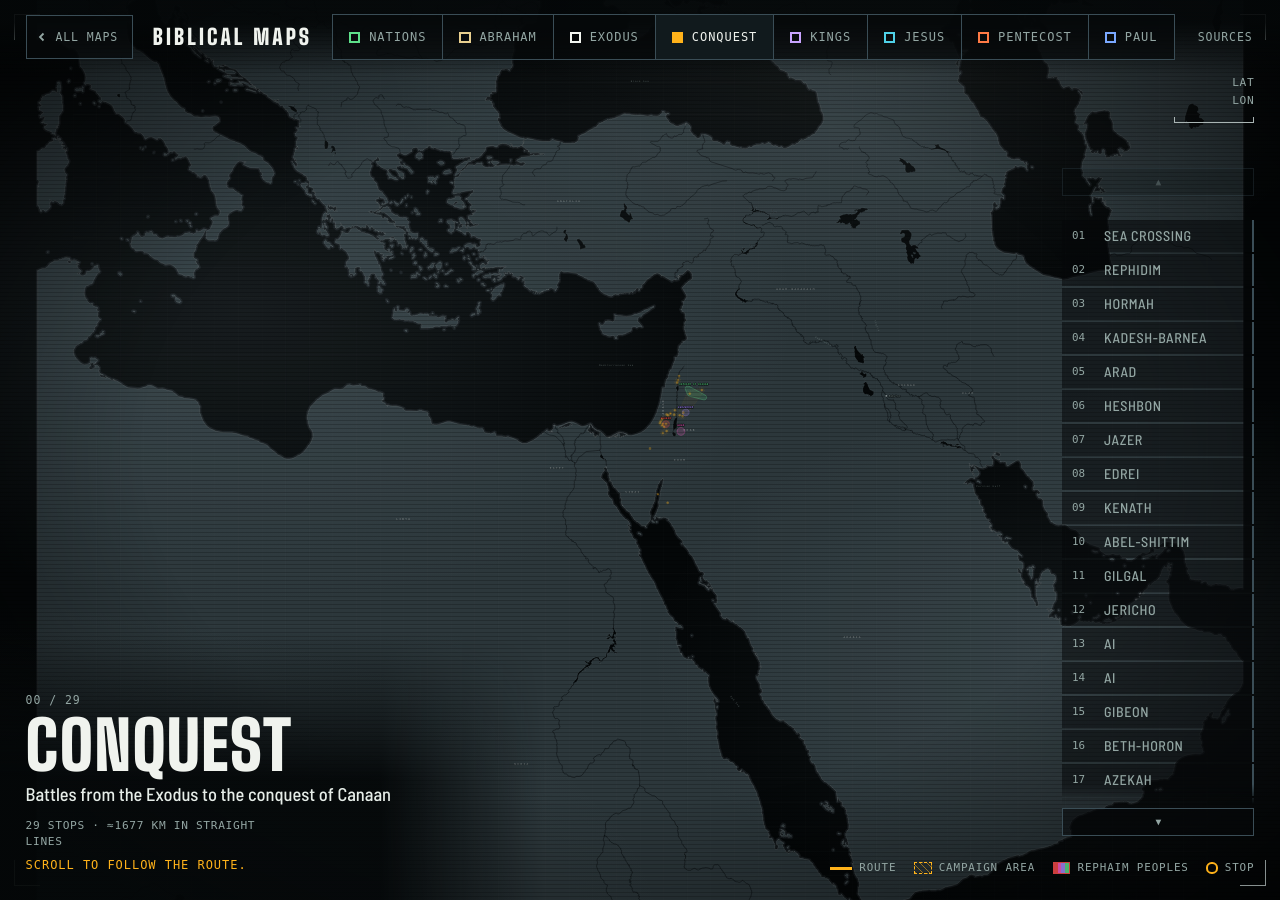
Scenario: App › puts the Table of Nations first, then Abraham
Expected: the button "Abraham" is shown, [443,15,554,59]
Click the button "Nations": (388, 37) [333,15,443,59]
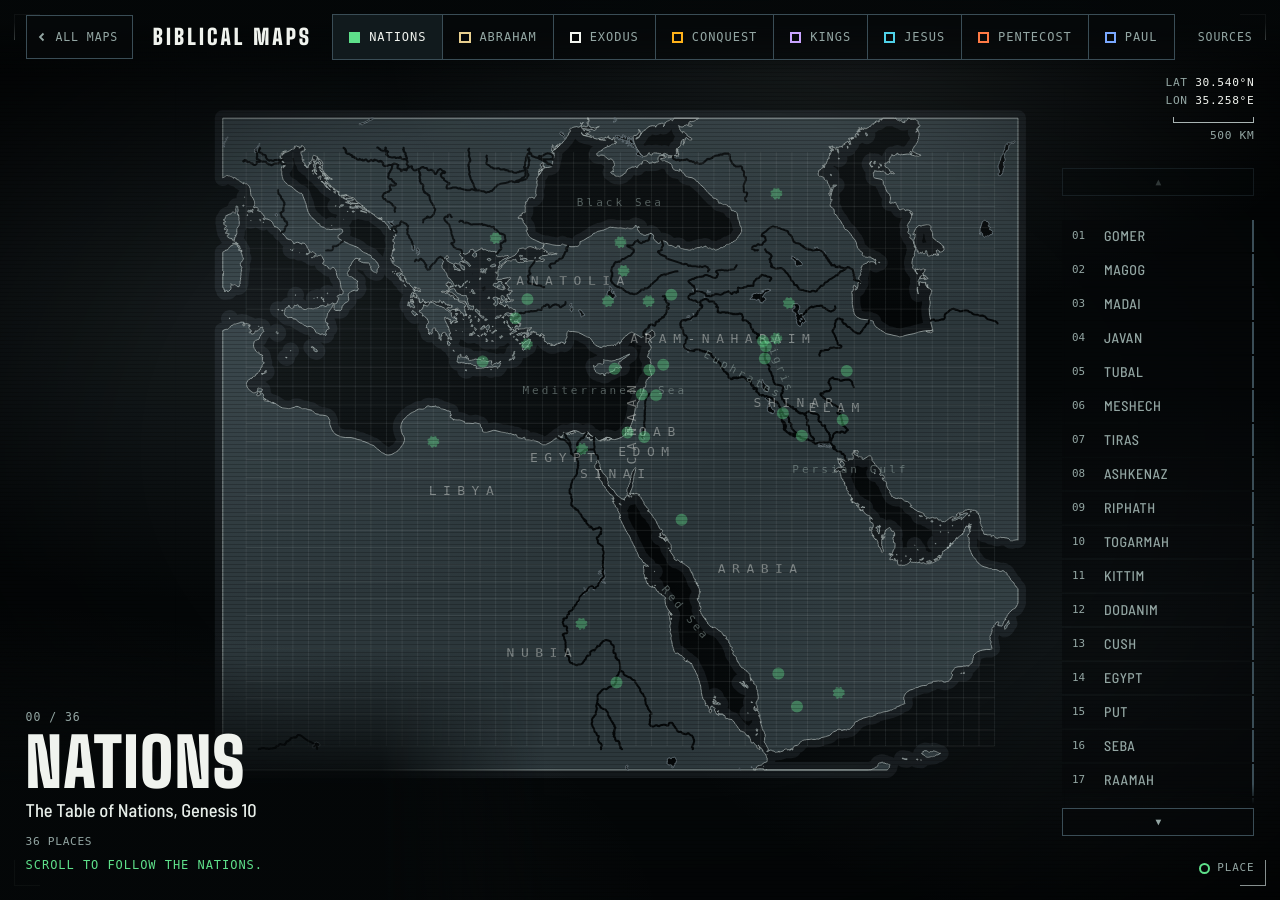
Expected: the button "gomer, gen 10:2–3" is shown, [604,251,674,291]
Expected: the heading "Nations" is shown, [26,722,246,802]
